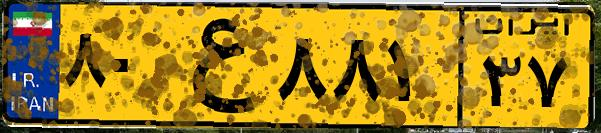0: (110, 28, 158, 98)
1: (385, 28, 445, 110)
3: (475, 38, 525, 113)
7: (525, 38, 570, 115)
8: (270, 28, 330, 110), (330, 28, 385, 110), (57, 26, 110, 100)
ع: (158, 12, 270, 120)
